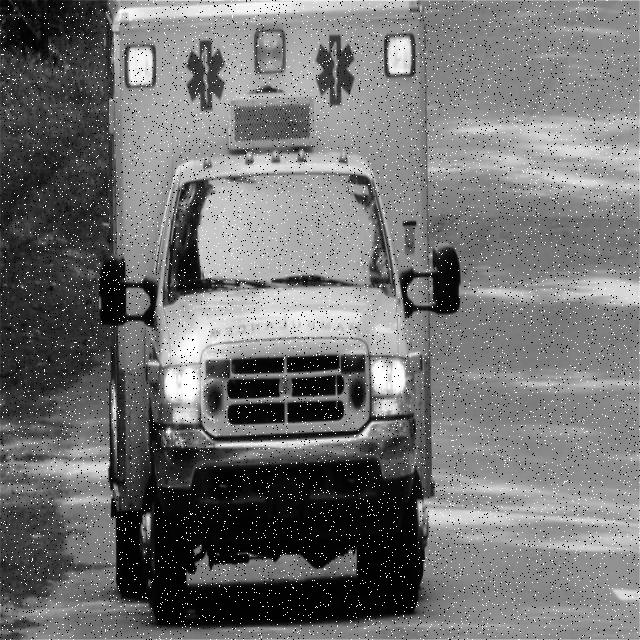Ambulance: (98, 0, 462, 625)
